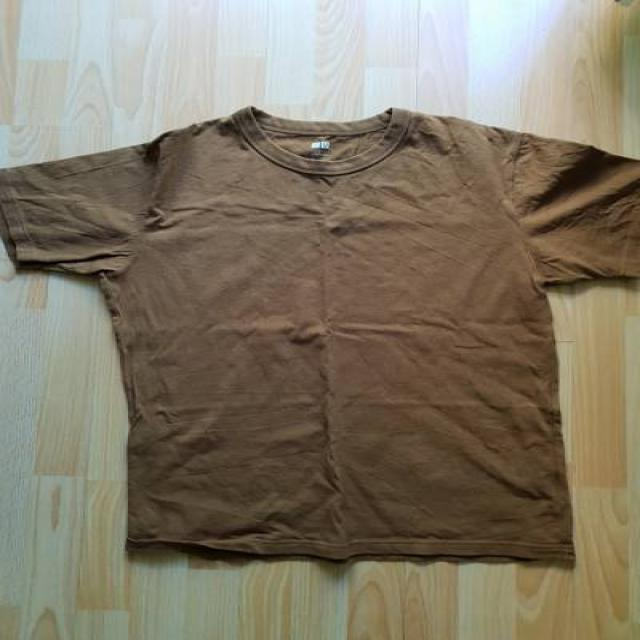Clothes -Biodegradable-: (0, 103, 640, 564)
